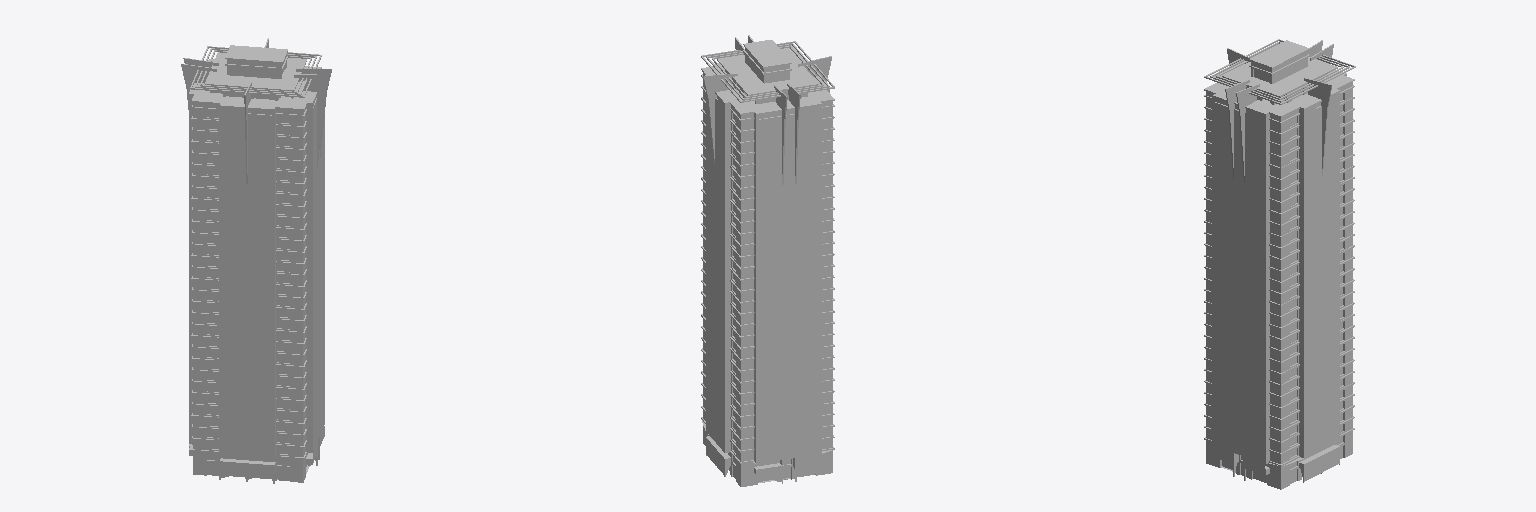
File: build2.obj
The picture shows the model from 3 angles: view 1: azimuth 30°, elevation 25°; view 2: azimuth 150°, elevation 25°; view 3: azimuth 270°, elevation 25°; orthographic projection.
Visible parts, largest first — view 1: Mesh1_Model.002; view 2: Mesh1_Model.002; view 3: Mesh1_Model.002.
Boxes of the visible parts, box(x1,y1,x2,y2) form: Mesh1_Model.002: box(181, 38, 331, 483); Mesh1_Model.002: box(701, 35, 834, 486); Mesh1_Model.002: box(1204, 39, 1355, 489).
Size of the model in its own units: 165 by 479 by 163.